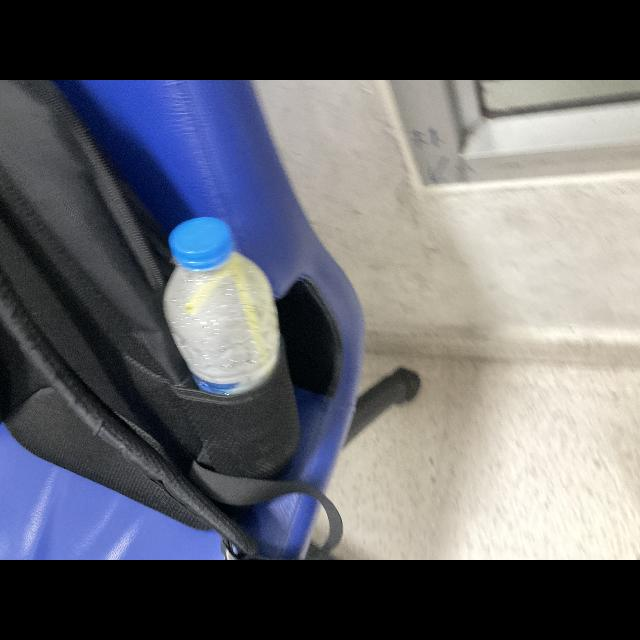plastic_bottle: (162, 212, 284, 398)
plastic_bottle_cap: (170, 216, 237, 274)
straw: (190, 254, 270, 364)
